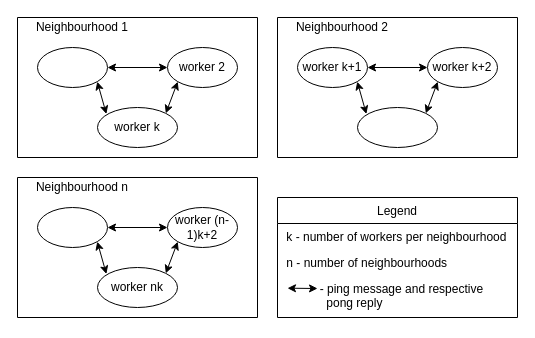
The diagram is 535 pixels wide and 338 high, and some of its shapes have lost their labels. Each missing label, with the box of its shape:
worker (n-1)k+1: (36, 206, 108, 248)
worker 1: (36, 46, 108, 88)
worker 2k: (356, 106, 438, 148)
